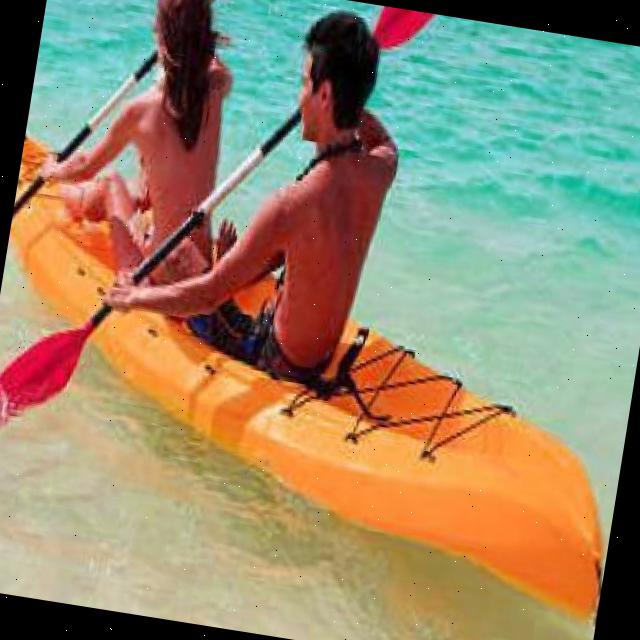kayak: (89, 314, 607, 626), (10, 186, 115, 317)
